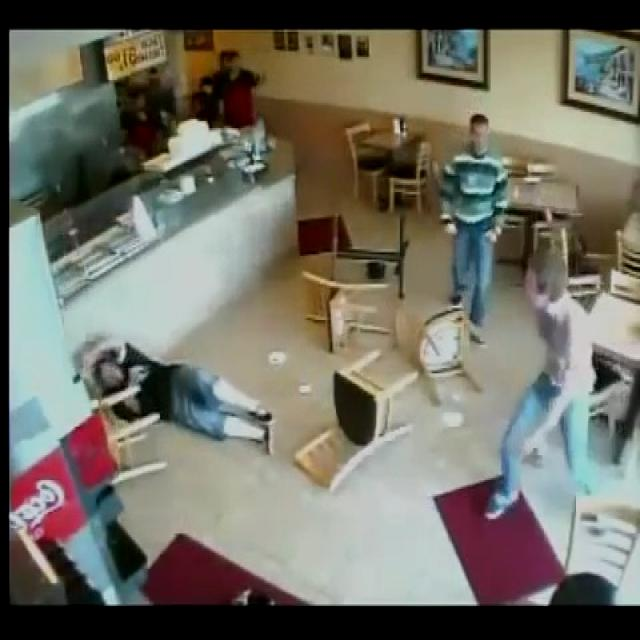fight: (478, 230, 601, 528), (65, 328, 281, 454)
